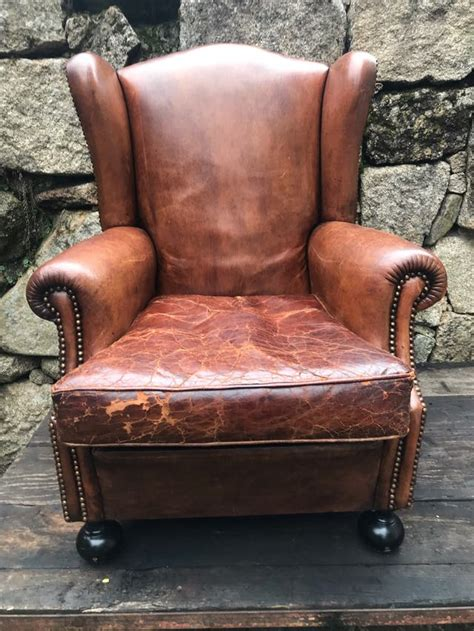cuero: (28, 44, 451, 521)
